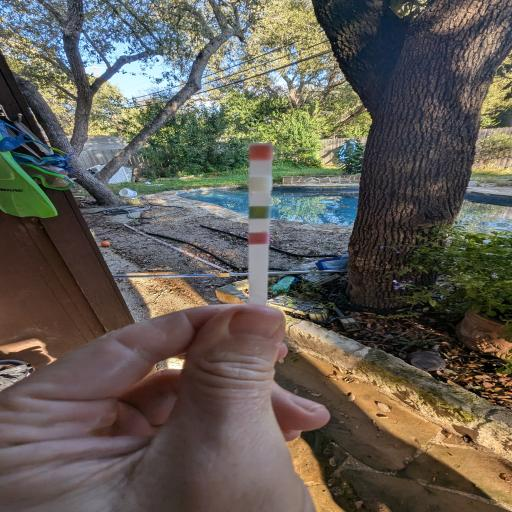strip: (249, 143, 272, 306)
